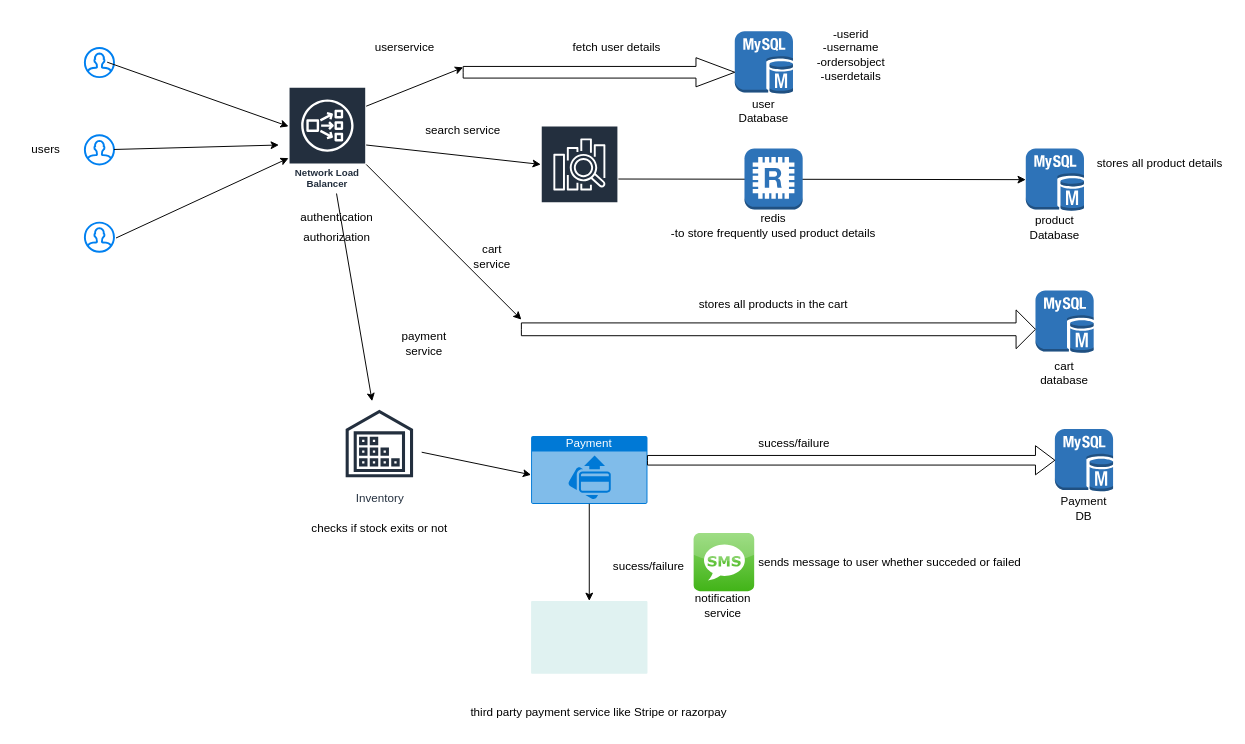
This 1245x744 diagram has some shape labels left out. The centre of each missing label's shape, as x and y in pixels:
"Amazon Elasticsearch Service" goes at point (579, 178).
"External Infrastructure 3 rd Party" goes at point (589, 636).
